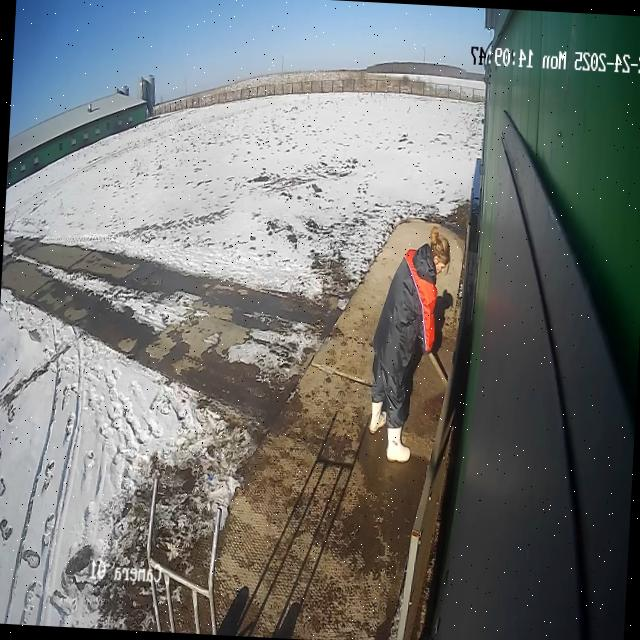Red uniform: (364, 223, 457, 468)
